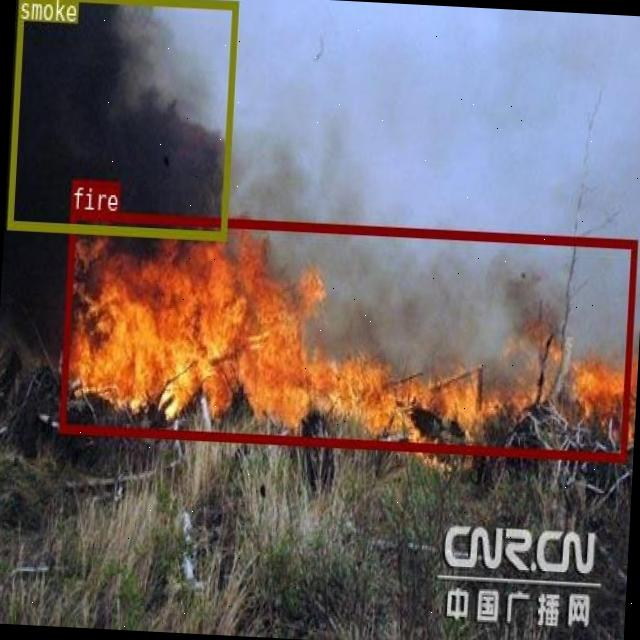fire: (58, 209, 637, 461)
smoke: (7, 0, 237, 238)
